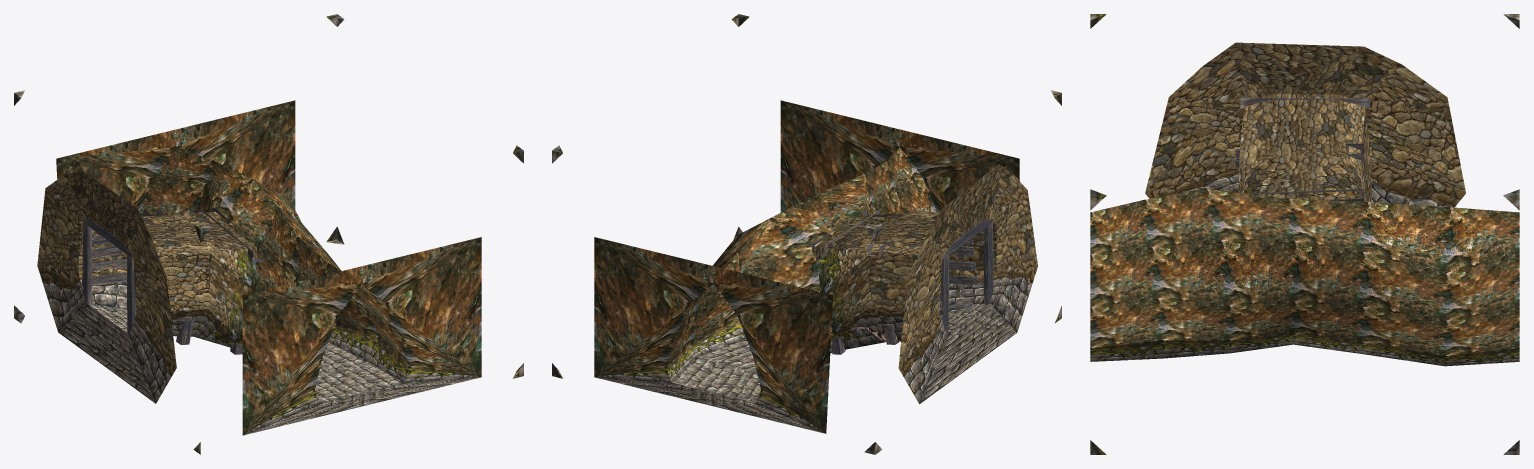
The model's file is Lbmc_3.glb.
3 renders of one model, left to right at view 1: azimuth 30°, elevation 25°; view 2: azimuth 150°, elevation 25°; view 3: azimuth 270°, elevation 25°, orthographic. The views are drawn at different scales.
Parts seen in each view (by area): view 1: Lbmc_3; view 2: Lbmc_3; view 3: Lbmc_3.
Part boxes in pixels (box(x1,y1,x2,y2)): Lbmc_3: box(14, 14, 523, 454); Lbmc_3: box(552, 14, 1061, 454); Lbmc_3: box(1090, 14, 1519, 454).
Size of the model in its own units: 15 by 10 by 15.
Materials: 10 (10 with a texture image).
